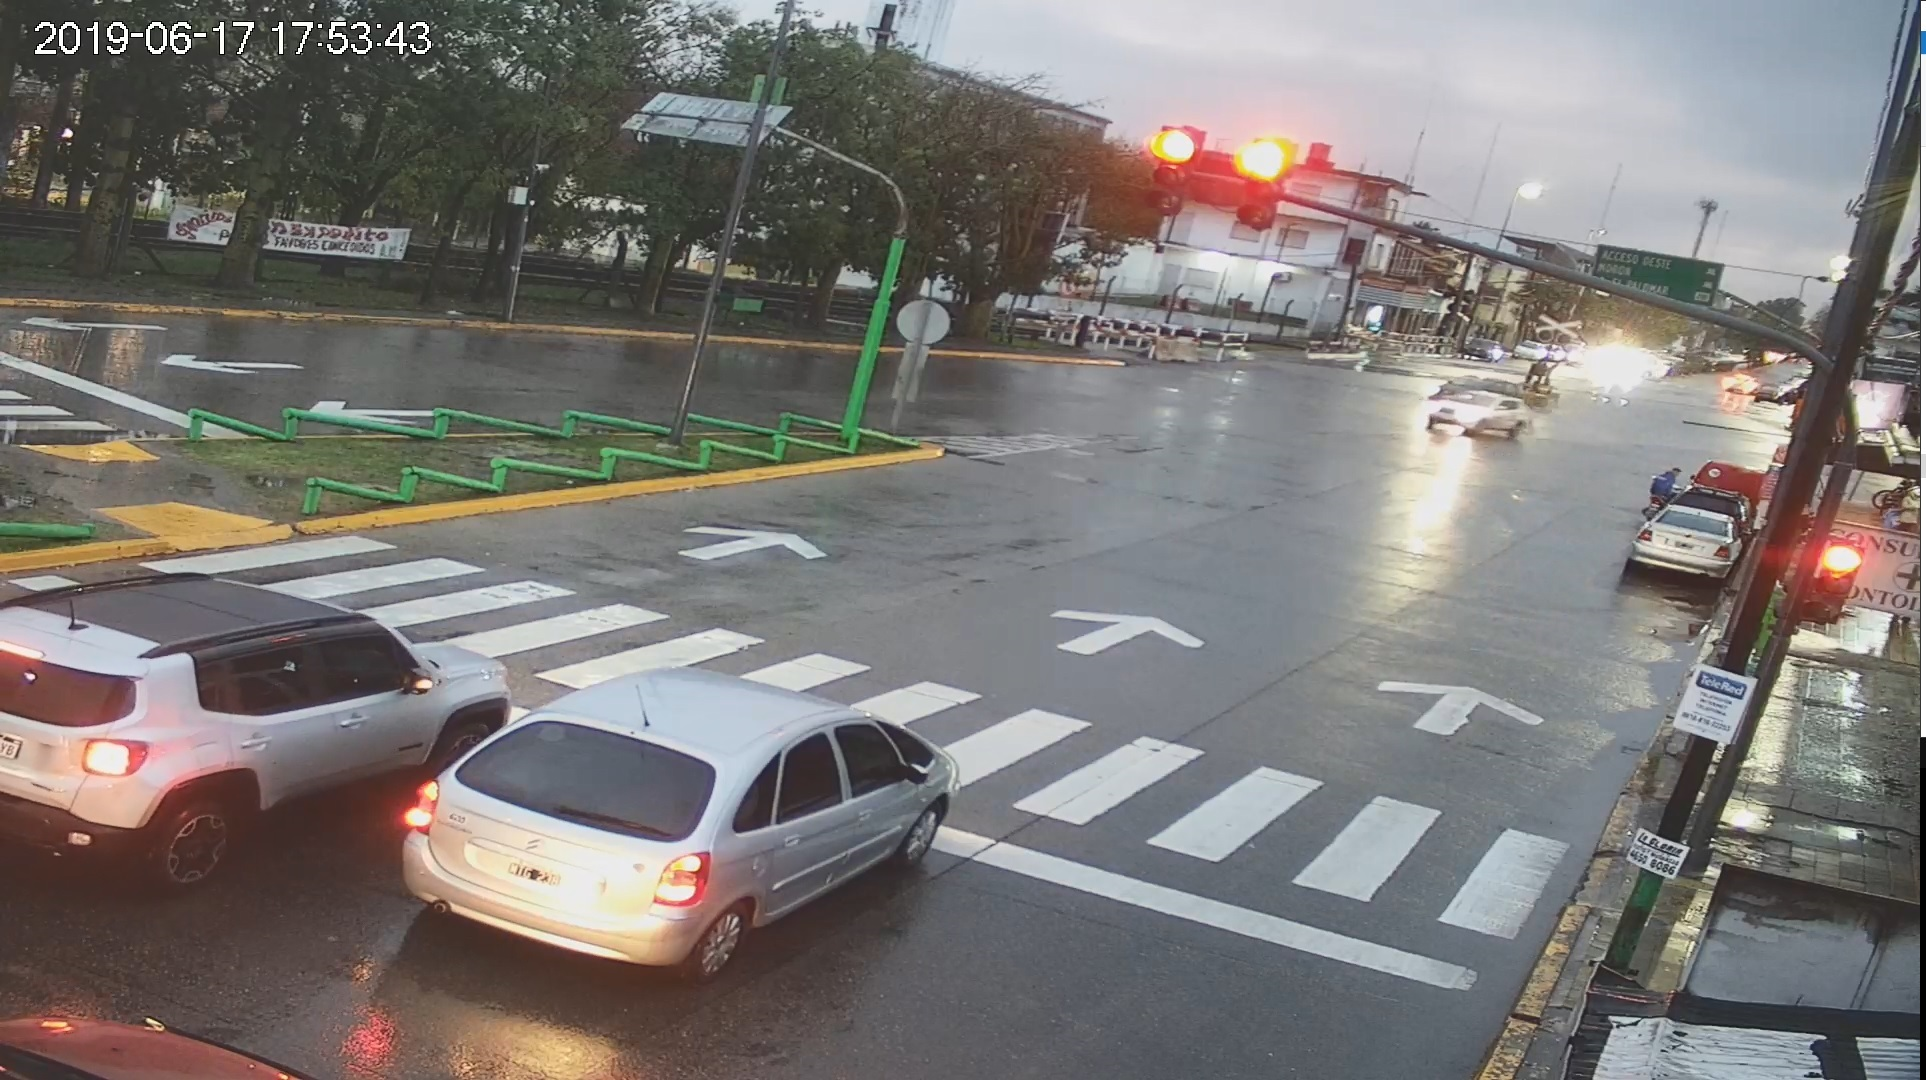car: (393, 655, 970, 986), (1, 570, 512, 893), (1619, 479, 1743, 596), (1414, 375, 1534, 457)
